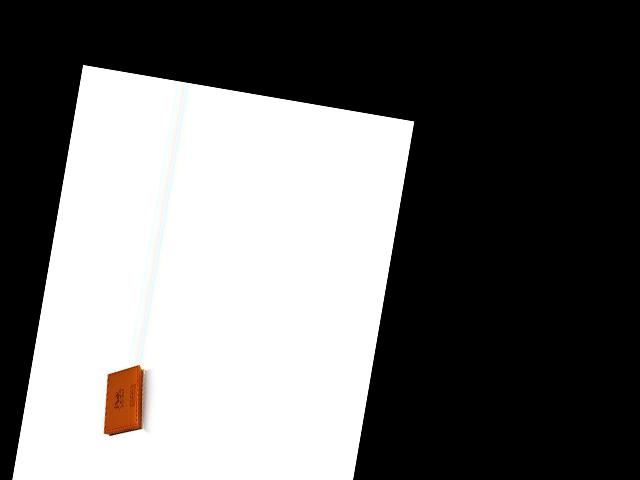chocolate: (95, 360, 157, 443)
